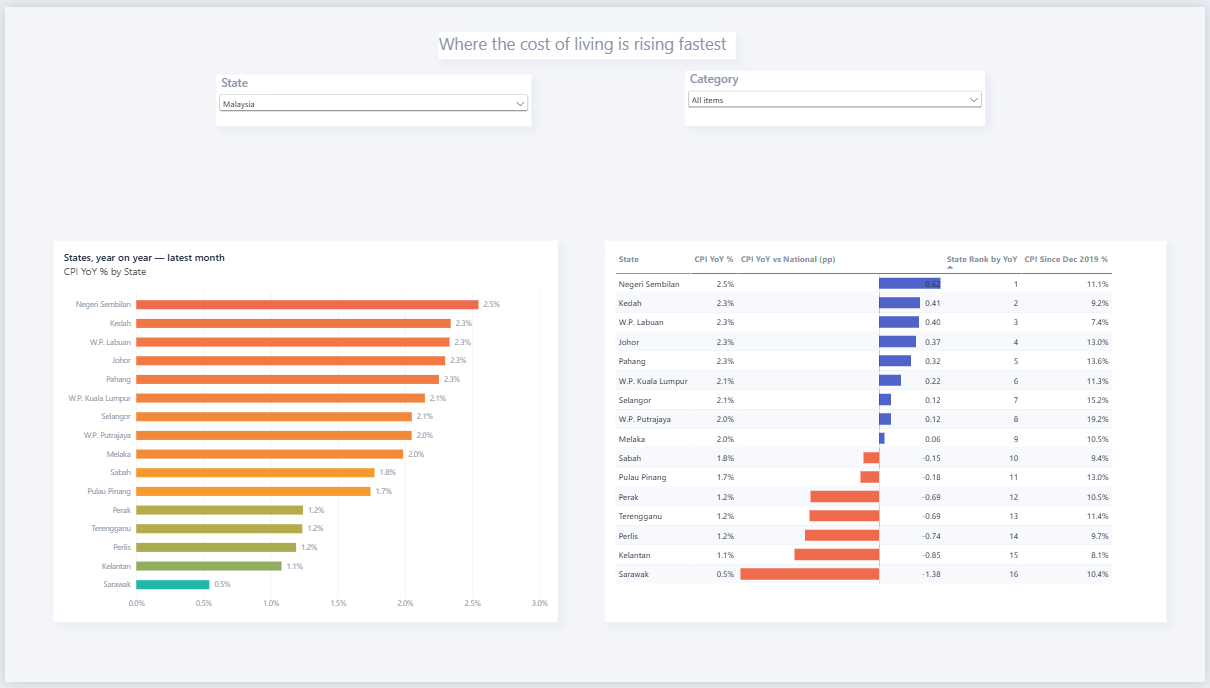

The dashboard page shown, as its layout file describes it:
{"tool":"powerbi","page":{"name":"States, year on year — latest month","canvas":[1920,1080],"ordinal":1},"visuals":[{"type":"slicer","fields":{"Values":["DimGeography.State"]},"box":[338,108,504,82],"z":0},{"type":"slicer","fields":{"Values":["DimCategory.Category"]},"box":[1087.2,101.2,480,88],"z":1000},{"type":"clusteredBarChart","title":"States, year on year — latest month","fields":{"Category":["DimGeography.State"],"Y":["Measures (2).CPI YoY %"]},"box":[78,374,806,610],"z":2000},{"type":"tableEx","fields":{"Values":["DimGeography.State","Measures (2).CPI YoY %","Measures (2).CPI YoY vs National (pp)","Measures (2).State Rank by YoY","Measures (2).CPI Since Dec 2019 %"]},"box":[960,374,898,610],"z":3000},{"type":"textbox","box":[693.3,40,475,43.3],"z":4000}]}

Visuals, with their boxes in screenshot pixels (x1, y1, x2, y2), scaled from the page's 1920x1080 canvas onto the 1210x688 screenshot:
slicer - DimGeography.State: bbox=(213, 69, 531, 121)
slicer - DimCategory.Category: bbox=(685, 64, 988, 121)
"States, year on year — latest month" clusteredBarChart: bbox=(49, 238, 557, 627)
tableEx - DimGeography.State x Measures (2).CPI YoY %: bbox=(605, 238, 1171, 627)
textbox: bbox=(437, 25, 736, 53)
